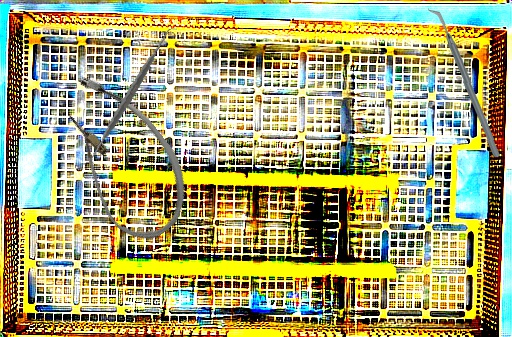Cannula: (32, 62, 210, 254)
Chopper: (425, 7, 503, 158)
Spatula Surgical: (61, 27, 196, 166)
